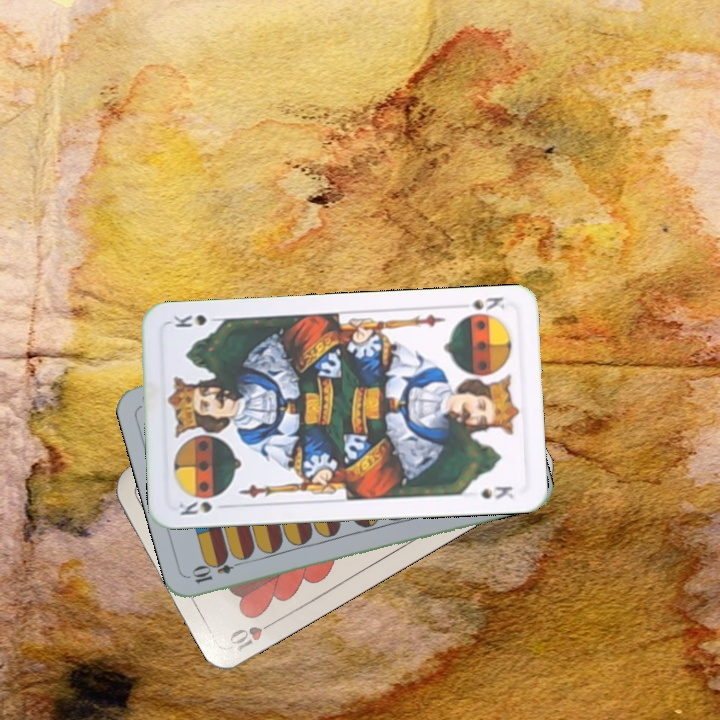E10: (188, 555, 247, 586)
H10: (225, 615, 281, 655)
SK: (173, 497, 232, 518), (467, 292, 507, 314)
